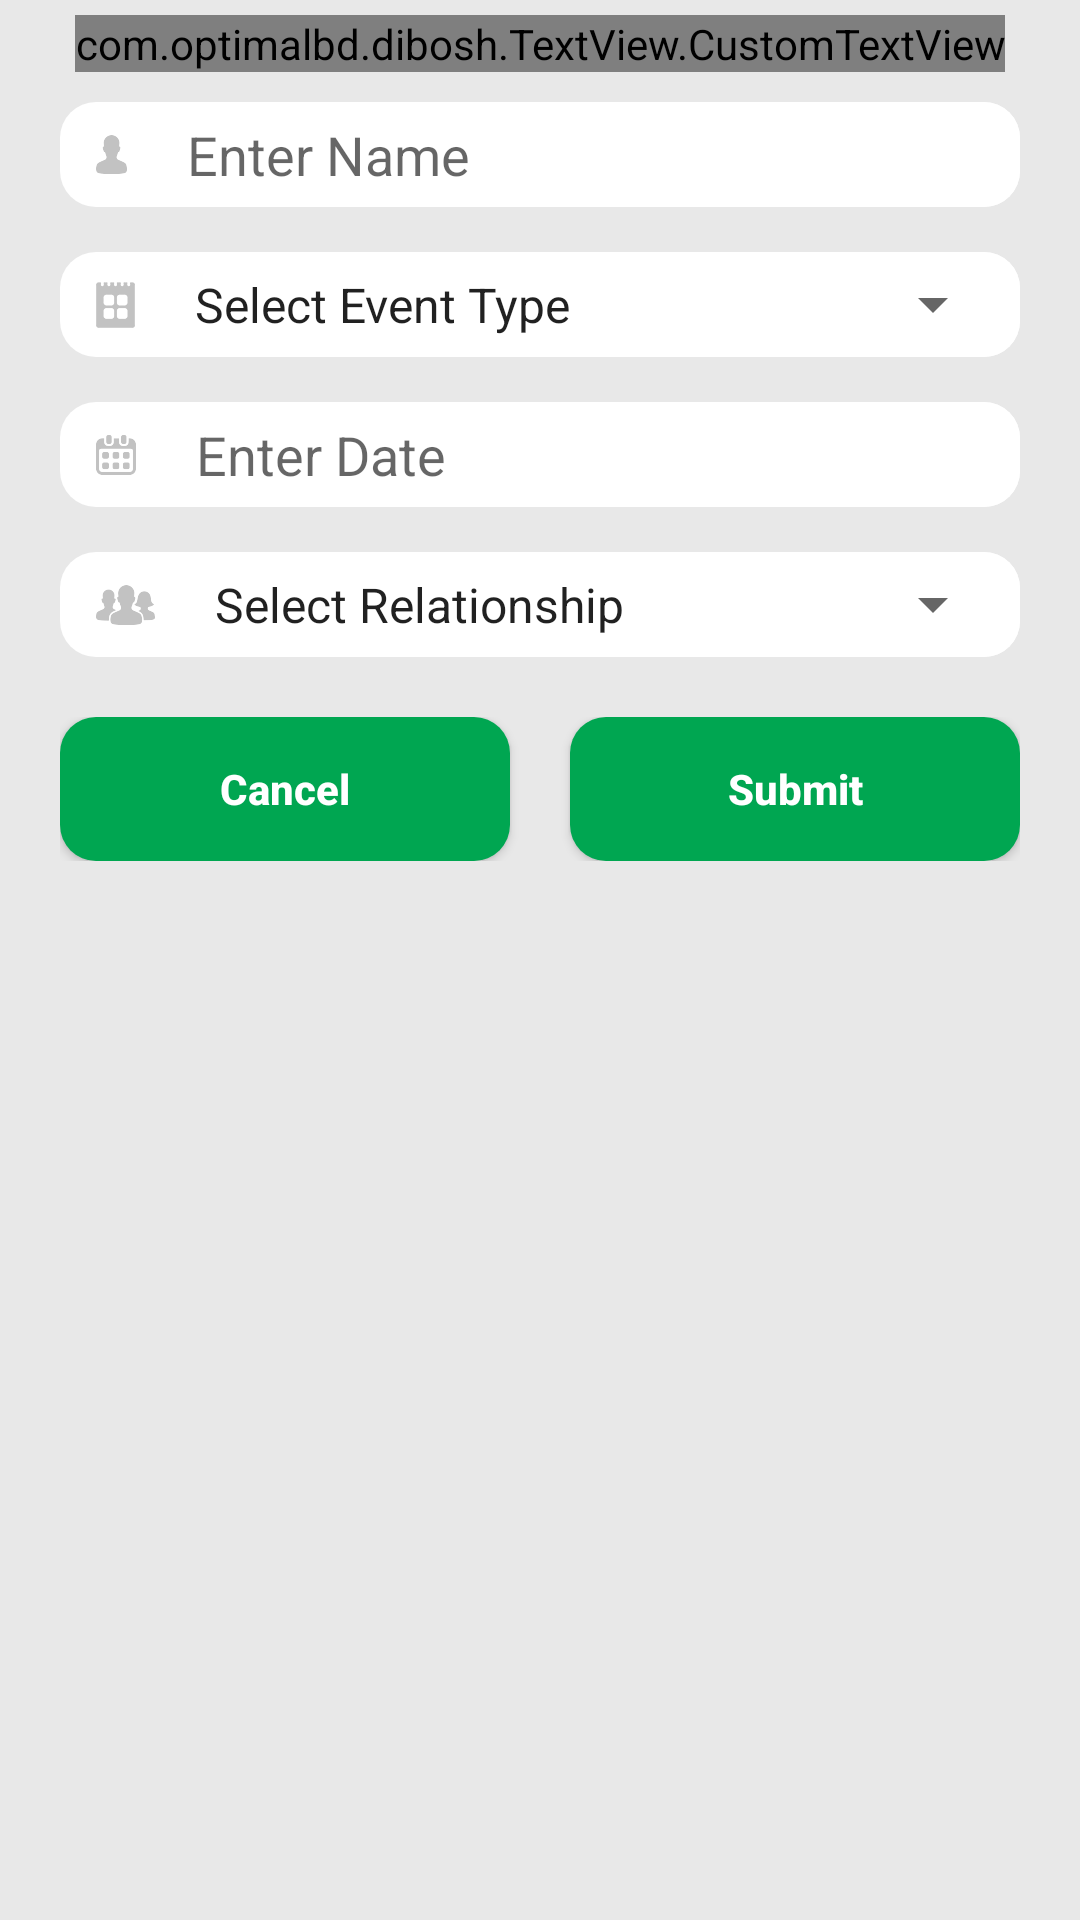

Where to tap for icons on this 1080px×1920px app screen, as [x,y]:
even man: [111,154]
event date: [116,455]
event relationship: [125,605]
